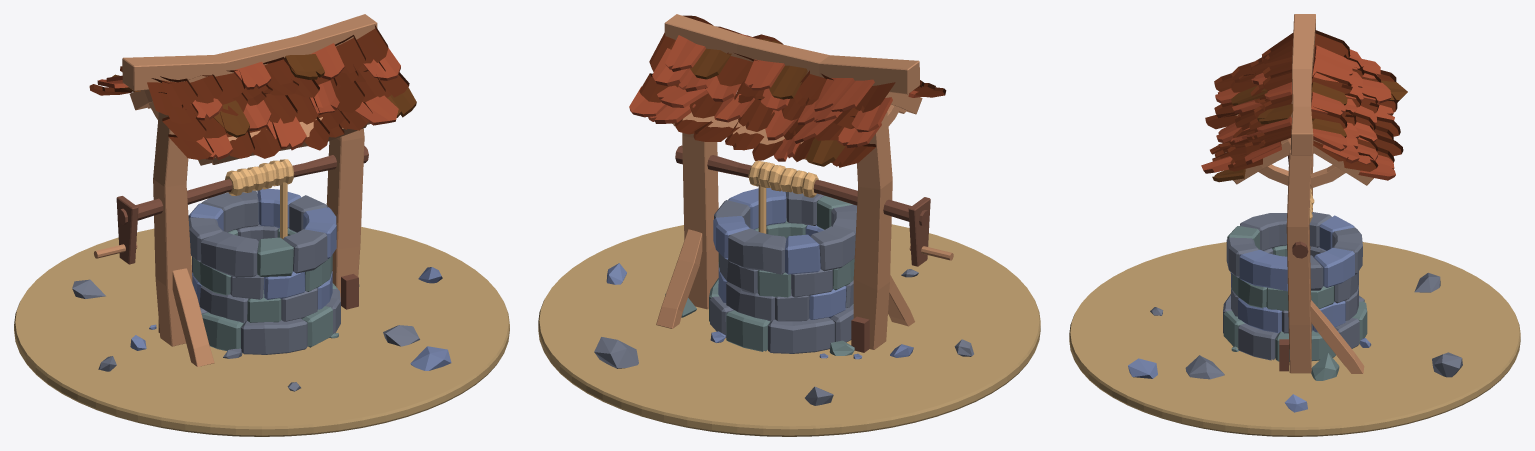
Rendered from Well2.fbx.
The picture shows the model from 3 angles, left to right: view 1: azimuth 30°, elevation 25°; view 2: azimuth 150°, elevation 25°; view 3: azimuth 270°, elevation 25°; orthographic projection. The views are drawn at different scales.
Visible parts, largest first — view 1: Cylinder.004, Plane.036, Cube.004, Cube.006, Cube.007, Cube, Cube.005, Cube.003, Cube.002, Cube.009, Cylinder, Cylinder.002 (+6 smaller); view 2: Cylinder.004, Plane.008, Cube.004, Cube.006, Cube.007, Cube, Cube.005, Cube.003, Cube.002, Cube.008, Cylinder, Cylinder.002 (+7 smaller); view 3: Cylinder.004, Plane.008, Plane.036, Cube.004, Cube.005, Cube, Cube.007, Cube.003, Cube.002, Cube.008, Icosphere.010, Icosphere.006 (+5 smaller).
Boxes of the visible parts, x1,y1,x2,y2 form: Cylinder.004: (14, 227, 509, 436); Plane.036: (147, 25, 416, 159); Cube.004: (188, 188, 336, 277); Cube.006: (153, 112, 192, 346); Cube.007: (122, 14, 377, 91); Cube: (199, 283, 340, 354); Cube.005: (326, 128, 364, 301); Cube.003: (192, 222, 332, 299); Cube.002: (192, 271, 332, 322); Cube.009: (172, 268, 214, 366); Cylinder: (117, 146, 368, 224); Cylinder.002: (225, 159, 293, 195); Cylinder.004: (538, 224, 1040, 436); Plane.008: (629, 32, 895, 167); Cube.004: (713, 188, 856, 274); Cube.006: (853, 96, 892, 349); Cube.007: (664, 14, 919, 94); Cube: (709, 278, 853, 353); Cube.005: (682, 133, 718, 309); Cube.003: (718, 218, 854, 297); Cube.002: (718, 264, 853, 321); Cube.008: (656, 229, 702, 328); Cylinder: (675, 145, 929, 226); Cylinder.002: (748, 160, 818, 197); Cylinder.004: (1069, 242, 1520, 436); Plane.008: (1311, 30, 1407, 180); Plane.036: (1201, 33, 1293, 182); Cube.004: (1226, 212, 1362, 291); Cube.005: (1286, 150, 1311, 373); Cube: (1223, 294, 1367, 361); Cube.007: (1291, 14, 1315, 155); Cube.003: (1230, 245, 1358, 310); Cube.002: (1231, 286, 1358, 333); Cube.008: (1310, 300, 1364, 373); Icosphere.010: (1185, 355, 1224, 379); Icosphere.006: (1432, 352, 1462, 377).
Size of the model in its own units: 3108 by 2151 by 3108.
1 material, 1 textured.
